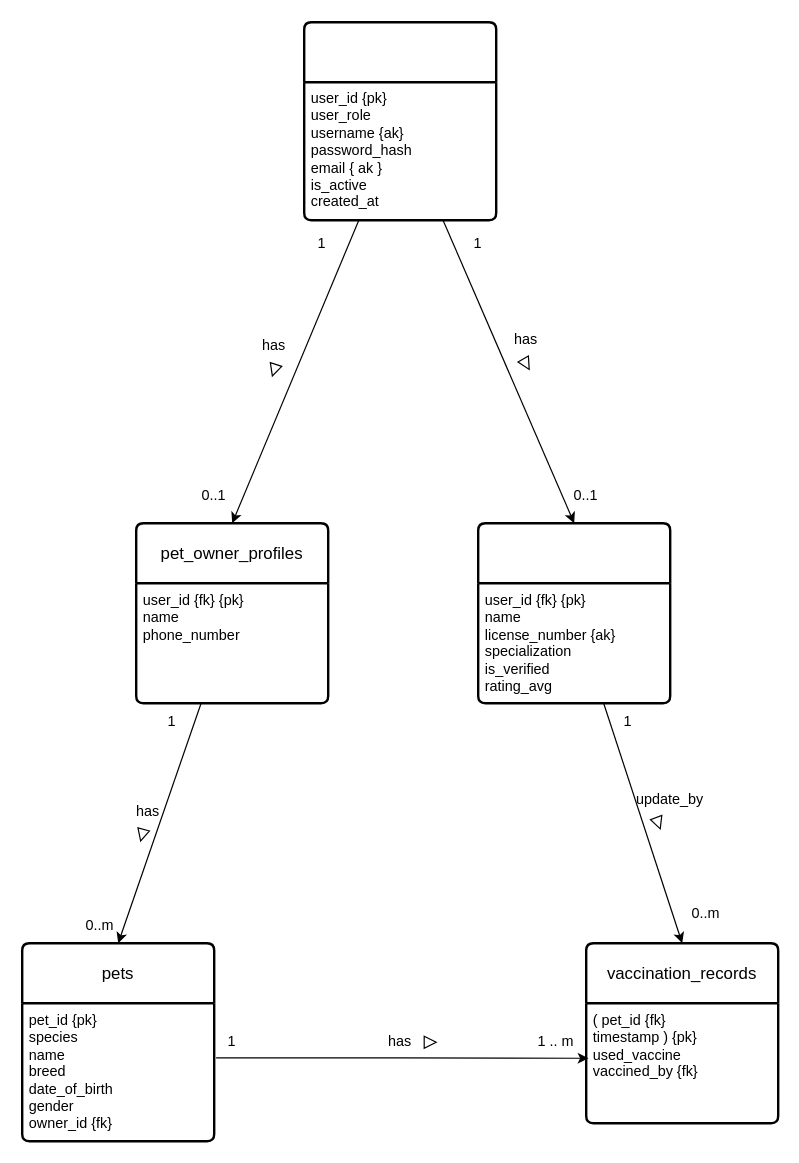
This 799x1163 diagram has some shape labels left out. Here are the shapes that lost their labels. From the top down, the box of each, then its label:
(302, 20, 497, 221): users
(476, 521, 671, 704): vet_profiles
